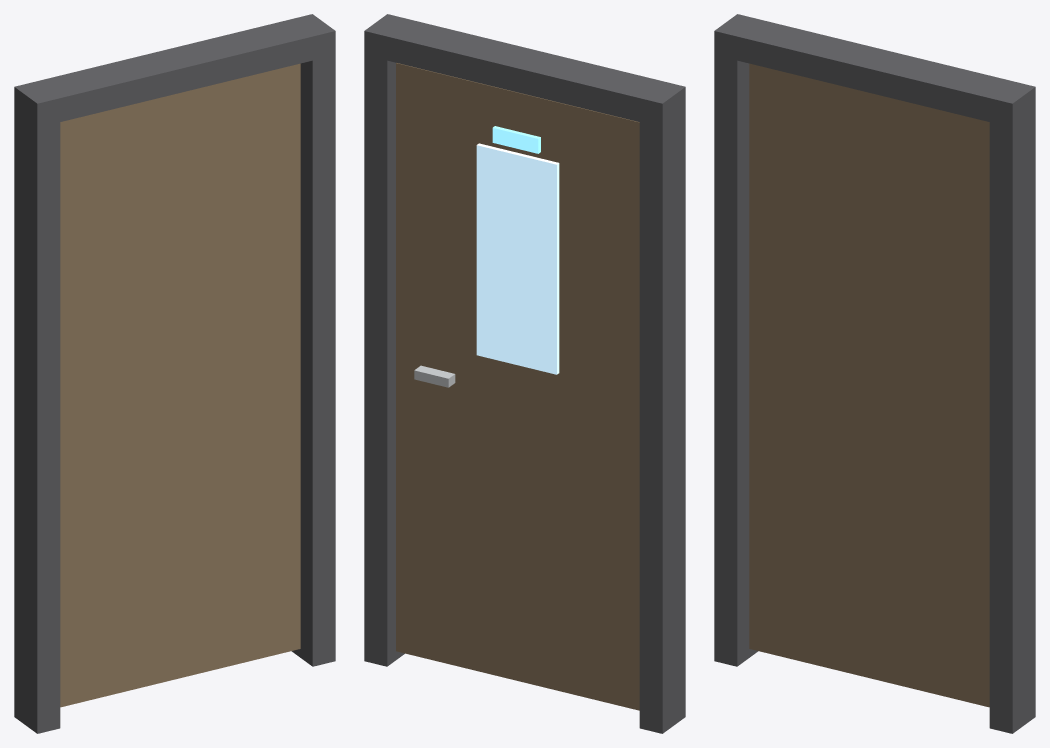
Rendered from office-door.glb.
The picture shows the model from 3 angles, left to right: view 1: azimuth 30°, elevation 25°; view 2: azimuth 150°, elevation 25°; view 3: azimuth 330°, elevation 25°; orthographic projection.
Visible parts, largest first — view 1: OfficeDoor; view 2: OfficeDoor; view 3: OfficeDoor.
Part boxes in pixels (left/top/right/bottom): OfficeDoor: left=14, top=14, right=335, bottom=733; OfficeDoor: left=364, top=14, right=685, bottom=733; OfficeDoor: left=714, top=14, right=1035, bottom=733.
Bounding box in the file's own units: 1.04 × 2.1 × 0.15.
